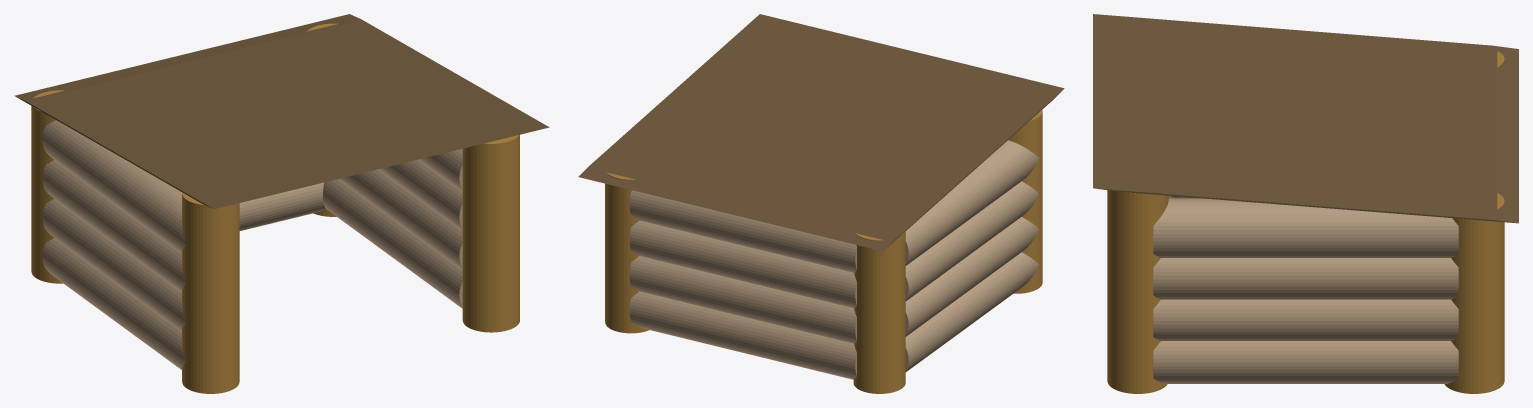
File: Smashing Snicket.glb
3 views of the same model, side by side, from view 1: azimuth 30°, elevation 25°; view 2: azimuth 150°, elevation 25°; view 3: azimuth 270°, elevation 25° (orthographic). The views are drawn at different scales.
Parts seen in each view (by area): view 1: Mesh_Mesh_head_geo.001_lambert2SG.001; view 2: Mesh_Mesh_head_geo.001_lambert2SG.001; view 3: Mesh_Mesh_head_geo.001_lambert2SG.001.
Boxes of the visible parts, box(x1,y1,x2,y2) form: Mesh_Mesh_head_geo.001_lambert2SG.001: box(14, 14, 549, 393); Mesh_Mesh_head_geo.001_lambert2SG.001: box(578, 14, 1064, 393); Mesh_Mesh_head_geo.001_lambert2SG.001: box(1093, 14, 1518, 393).
Bounding box in the file's own units: 0.027 × 0.0153 × 0.0279.
